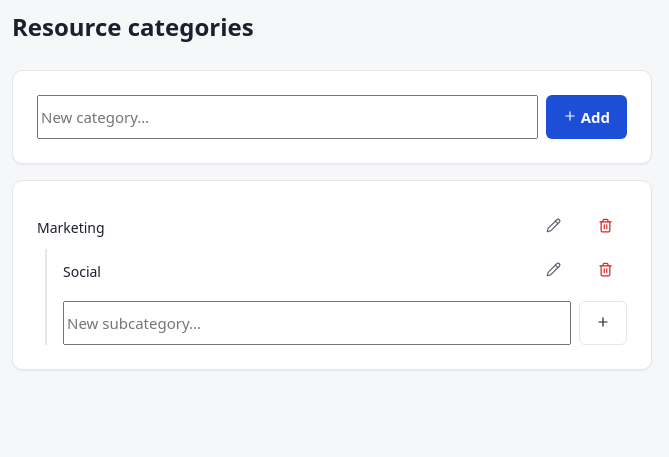
Test: CategoriesPage › surfaces the server guard message when deletion is refused
What coordinates should you click on to do the following:
click the button named "delete social"
I would click on:
 (605, 271)
Its box is left=583, top=249, right=627, bottom=293.
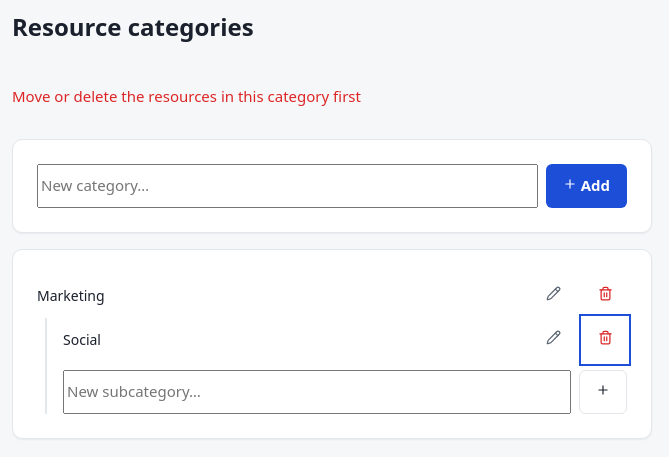
Check: the message shows "resources in this category", box left=12, top=86, right=361, bottom=106
